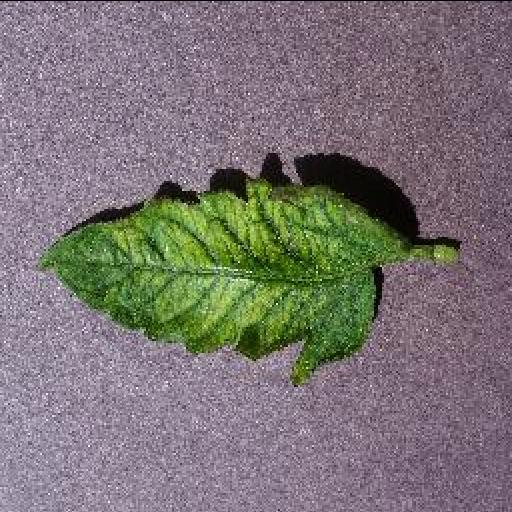disease_tomato: (35, 174, 401, 384)
